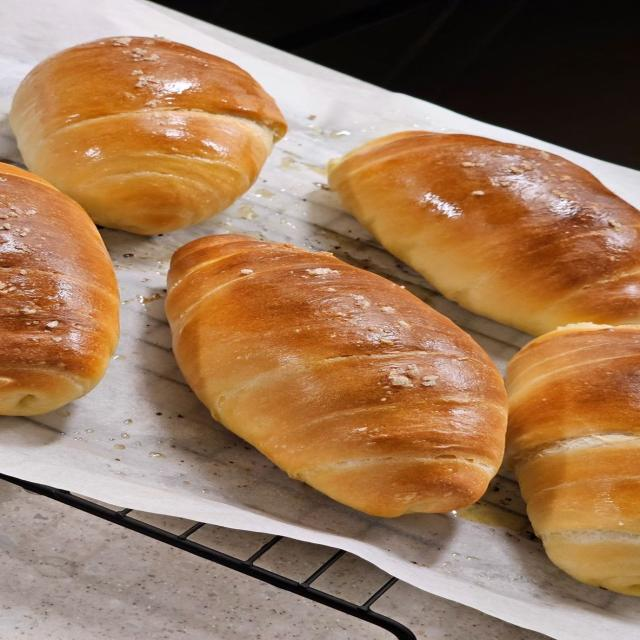bread: (167, 235, 506, 516), (330, 132, 639, 335), (11, 37, 286, 234), (507, 323, 639, 595), (0, 164, 119, 415)
